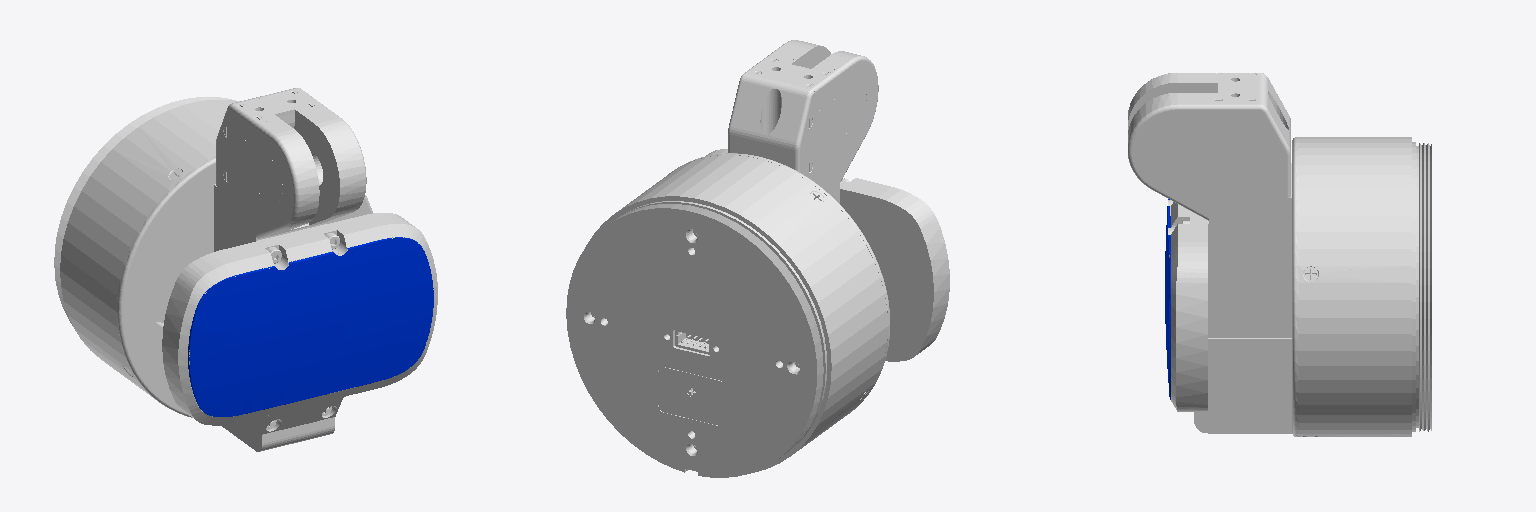
3 views of the same model, side by side, from view 1: azimuth 30°, elevation 25°; view 2: azimuth 150°, elevation 25°; view 3: azimuth 270°, elevation 25° (orthographic).
Parts seen in each view (by area): view 1: Bhand_Palm_Fine; view 2: Bhand_Palm_Fine; view 3: Bhand_Palm_Fine.
Boxes of the visible parts, <box> form: Bhand_Palm_Fine: <box>54,88,437,451</box>; Bhand_Palm_Fine: <box>566,40,949,477</box>; Bhand_Palm_Fine: <box>1128,73,1431,436</box>.
Size of the model in its own units: 0.089 by 0.1095 by 0.0904.
Materials: 2 (1 with a texture image).